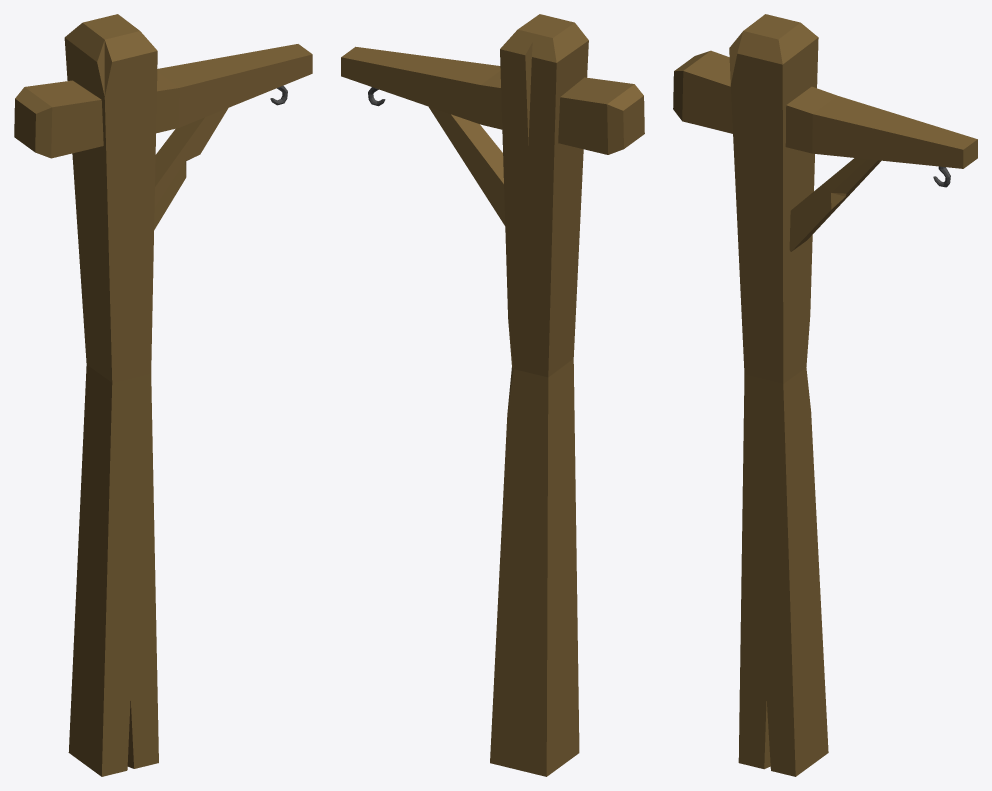
File: lamp_post_2.glb
3 renders of one model, left to right at view 1: azimuth 30°, elevation 25°; view 2: azimuth 150°, elevation 25°; view 3: azimuth 330°, elevation 25°, orthographic.
Parts seen in each view (by area): view 1: Cube, Cube.001, Cube.002; view 2: Cube, Cube.001, Cube.002; view 3: Cube, Cube.001, Cube.002.
Part boxes in pixels (x1,y1,x2,y2): Cube: [64, 14, 158, 776]; Cube.001: [14, 44, 312, 158]; Cube.002: [154, 108, 228, 230]; Cube: [490, 14, 588, 776]; Cube.001: [341, 46, 644, 154]; Cube.002: [429, 107, 505, 225]; Cube: [729, 14, 828, 776]; Cube.001: [673, 50, 977, 168]; Cube.002: [789, 158, 881, 251].
Bounding box in the file's own units: 1.65 × 4.07 × 0.39.
